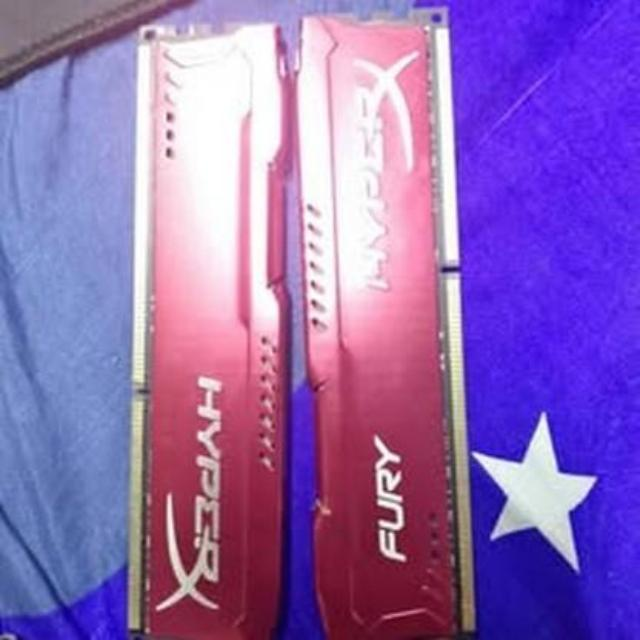RAM: (294, 0, 480, 640), (128, 18, 286, 640)
